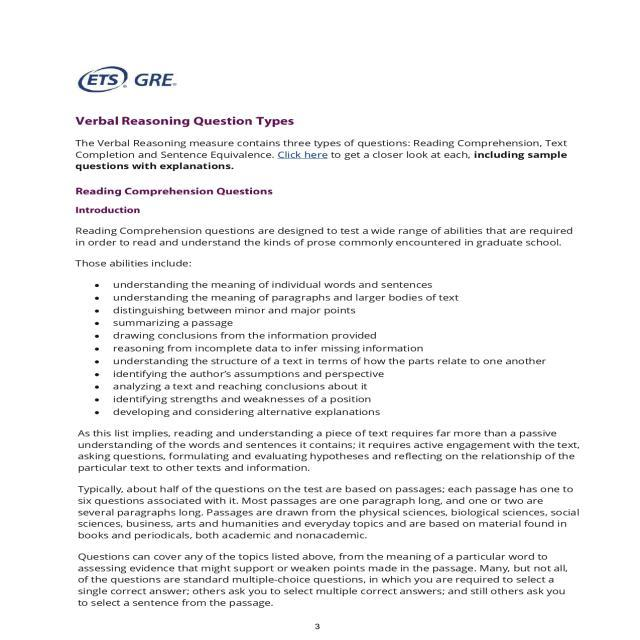Question_Paper_Area: (40, 108, 610, 621)
